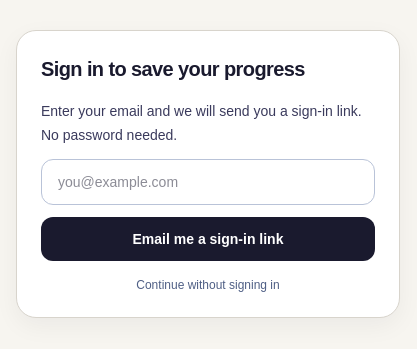
SignIn page › shows the error the backend sends back
Type "learner@example.com" into the field named "email address" at point(208, 182), box 41,159 -> 375,205
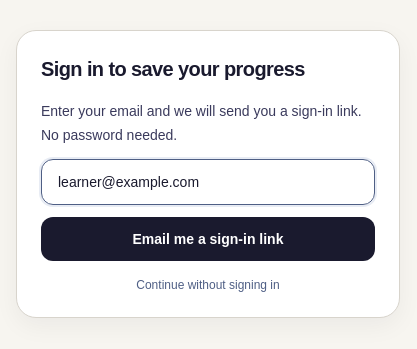
Click the button "Email me a sign-in link" at point(208, 239), box 41,217 -> 375,261
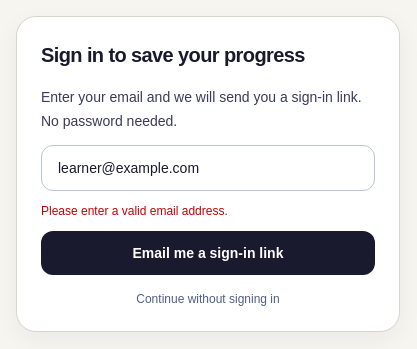
Expected: the text "Please enter a valid email address." is shown, 41,204 -> 228,218
